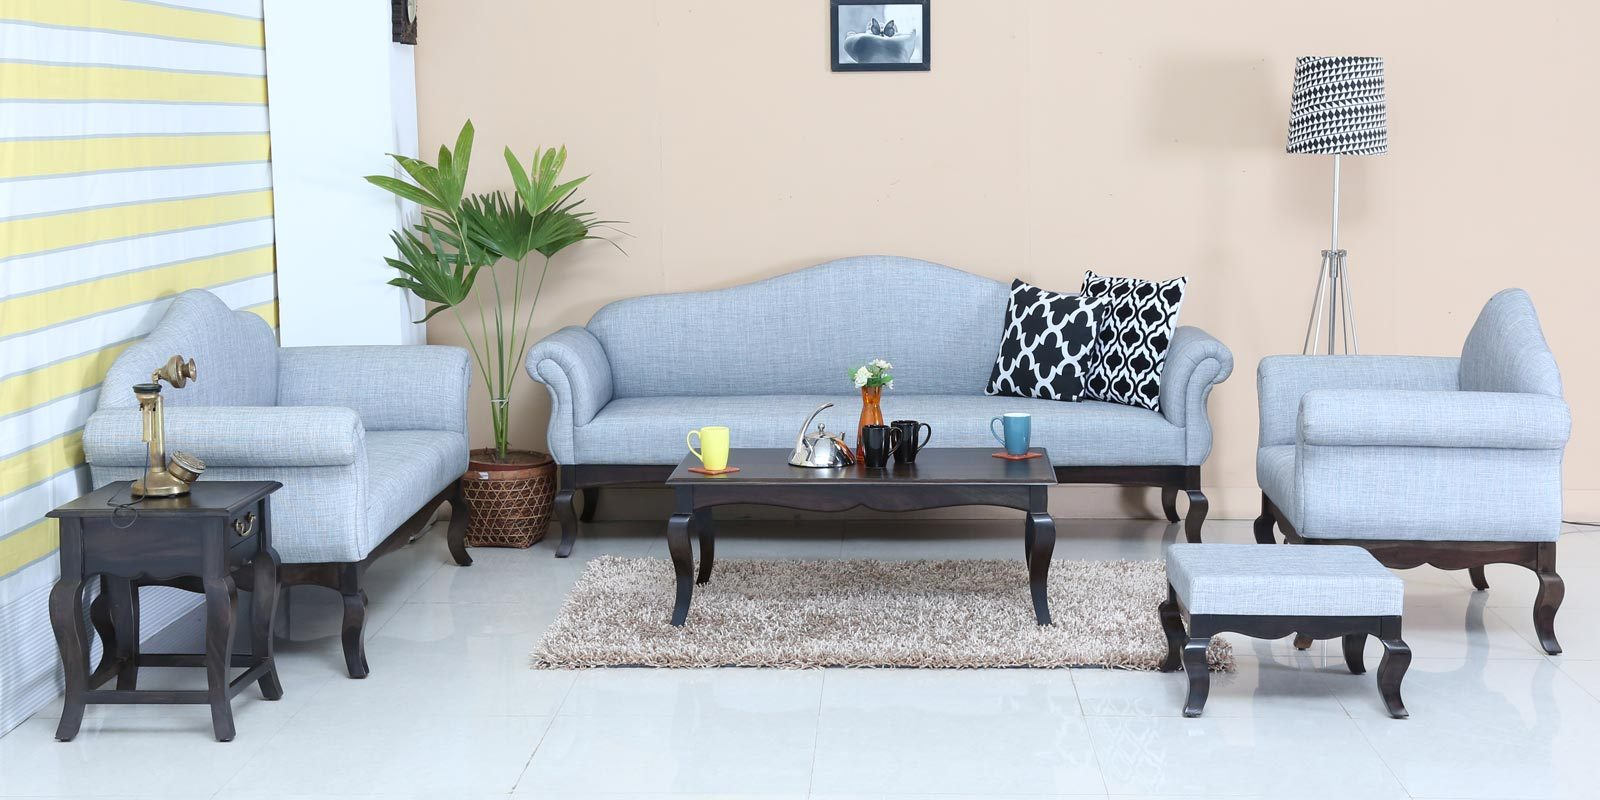Anne Three Seater Sofa in Warm Chestnut Finish by Amberville: (518, 253, 1230, 548)
